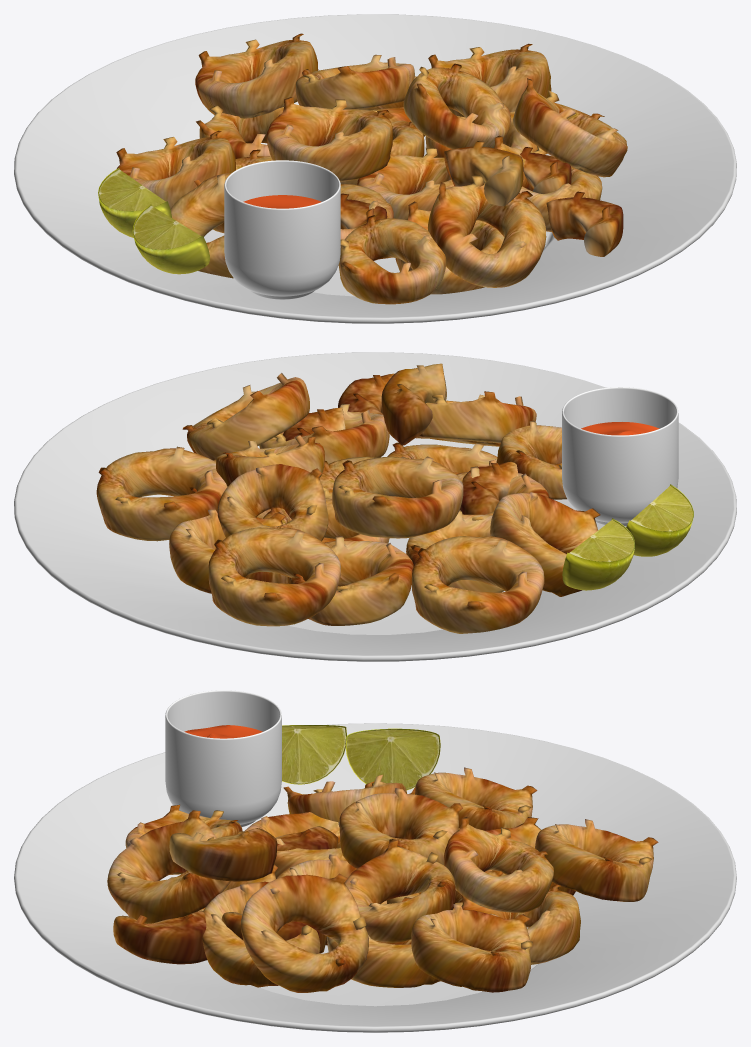
The model's file is Shrimps.glb.
3 renders of one model, top to bottom at view 1: azimuth 30°, elevation 25°; view 2: azimuth 150°, elevation 25°; view 3: azimuth 270°, elevation 25°, orthographic.
Visible parts, largest first — view 1: Shrimpts; view 2: Shrimpts; view 3: Shrimpts.
Part boxes in pixels (left/top/right/bottom): Shrimpts: left=14, top=14, right=736, bottom=323; Shrimpts: left=14, top=352, right=736, bottom=661; Shrimpts: left=14, top=690, right=736, bottom=1032.
Size of the model in its own units: 0.231 by 0.0512 by 0.231.
5 materials, 2 textured.
